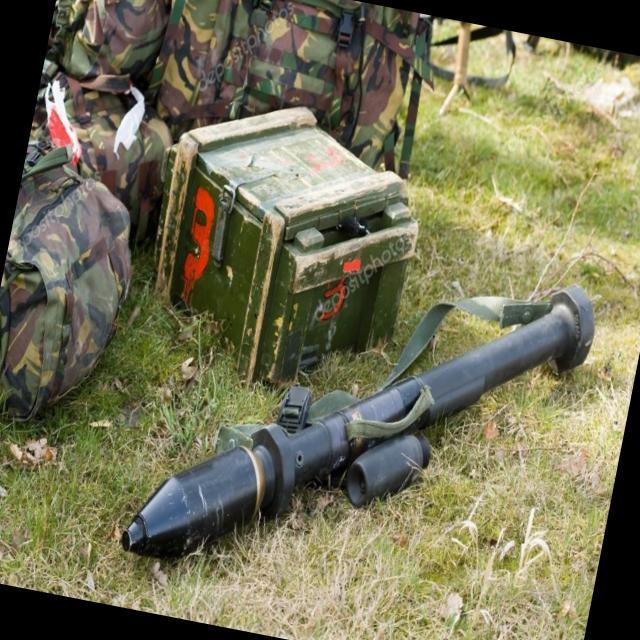rocket: (117, 216, 602, 640)
